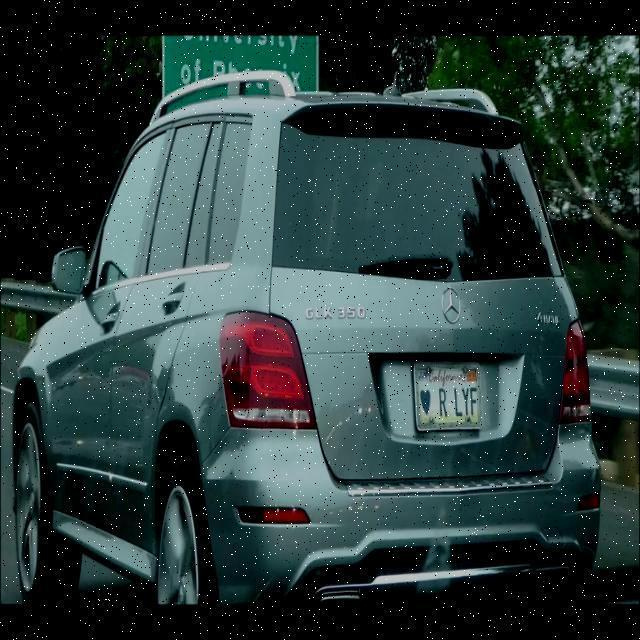LicensePlate: (401, 344, 491, 437)
